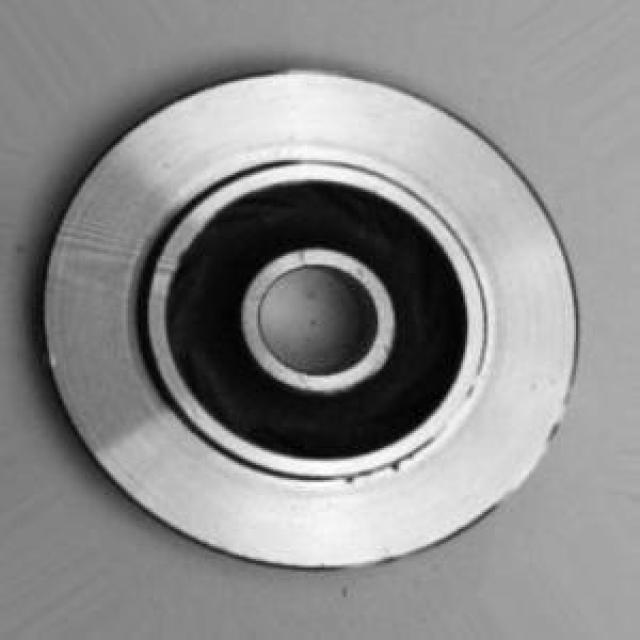Defect: (378, 451, 420, 480), (342, 465, 365, 498)
